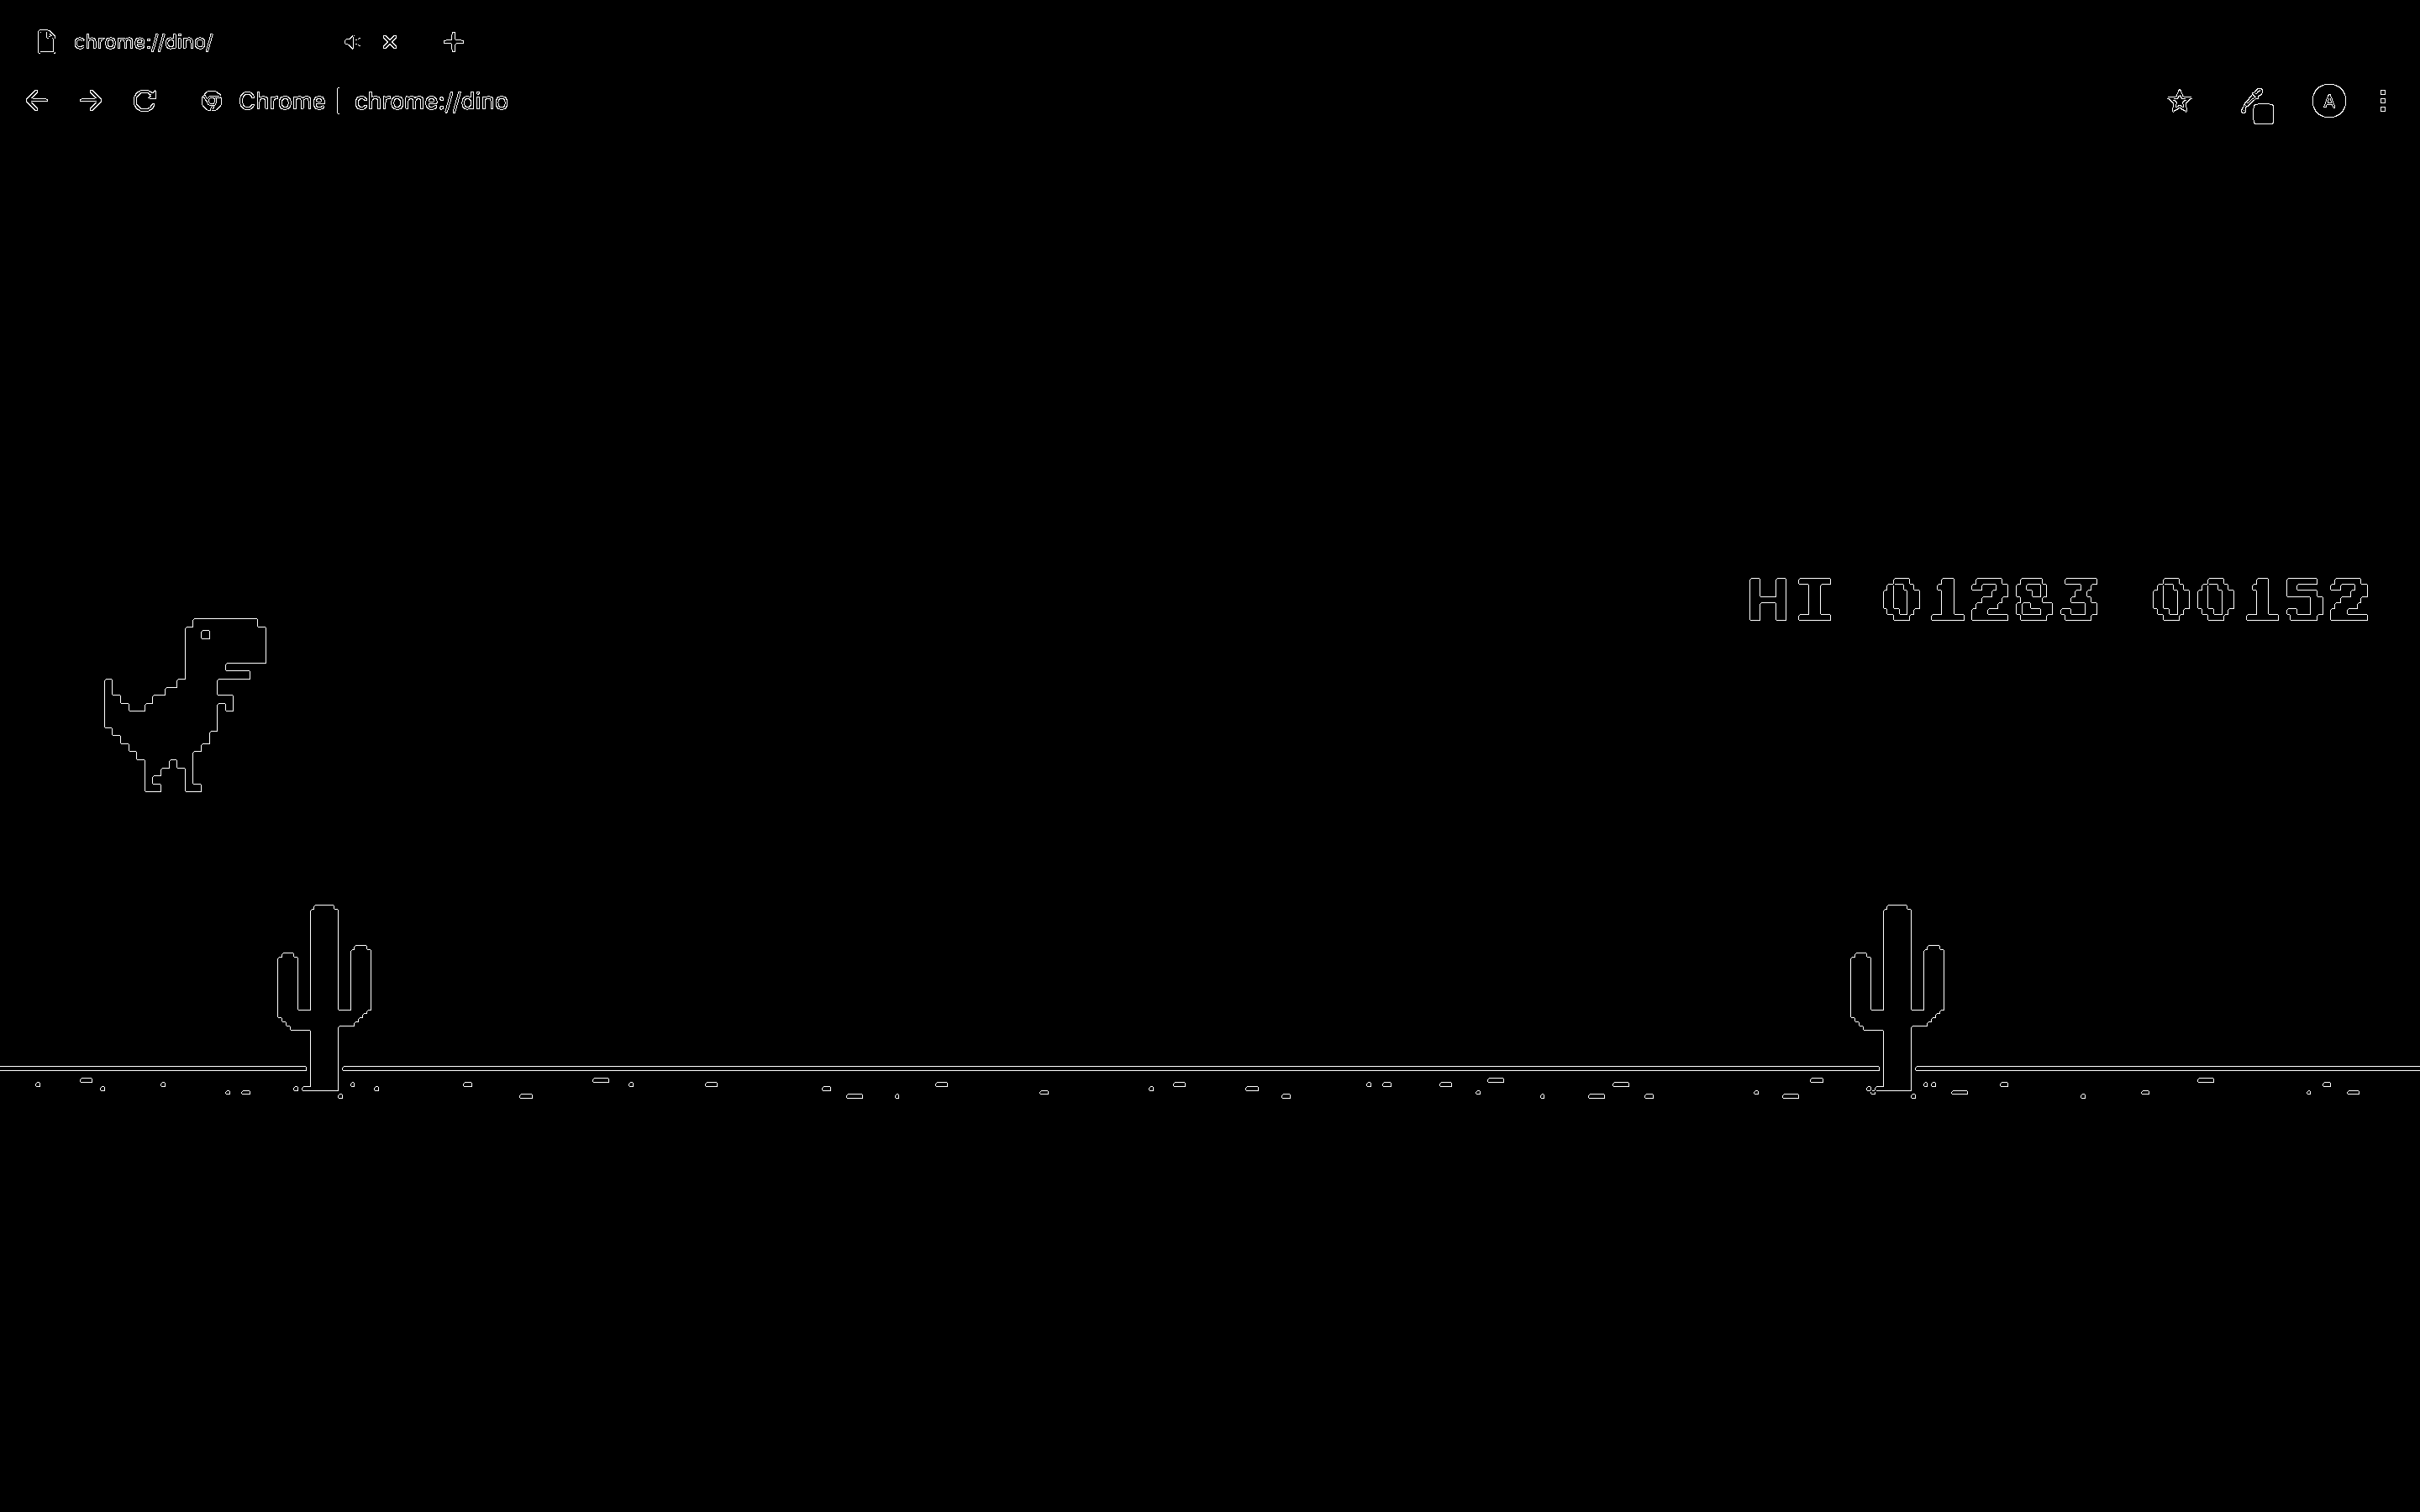Cactus: (1831, 899, 1958, 1101), (274, 904, 376, 1097)
Dino: (110, 617, 274, 789)
